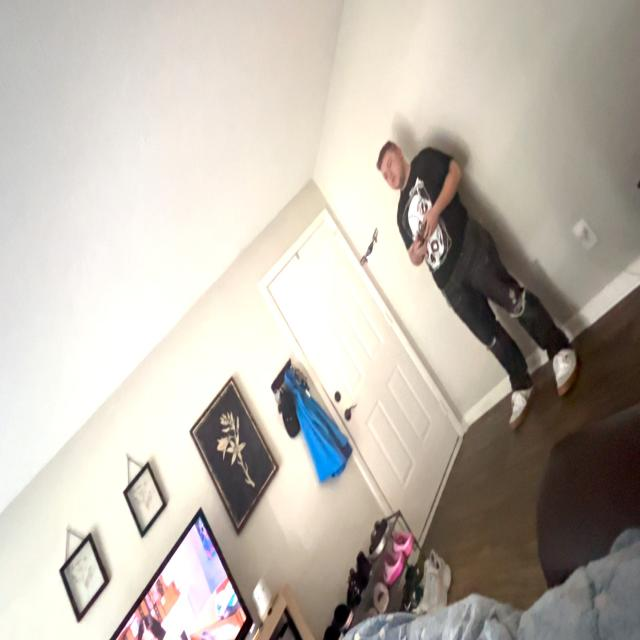drone: (349, 221, 385, 273)
